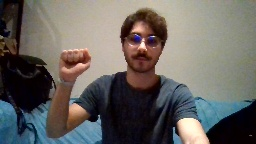Pugno: (56, 45, 93, 79)
